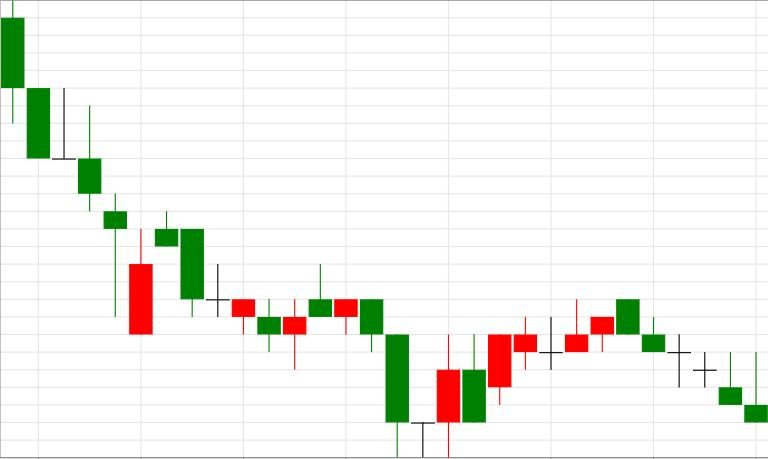morning_star_rise: (308, 264, 460, 457)
